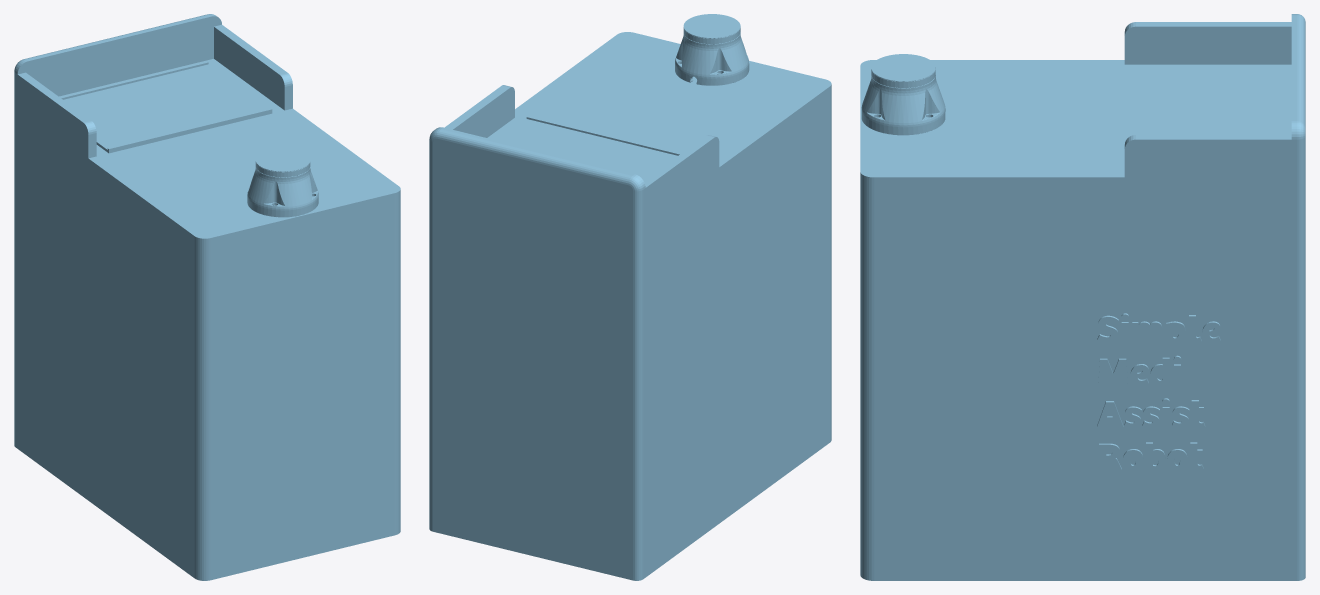
The model's file is base_linkV02.dae.
The picture shows the model from 3 angles, left to right: view 1: azimuth 30°, elevation 25°; view 2: azimuth 150°, elevation 25°; view 3: azimuth 270°, elevation 25°; orthographic projection. The views are drawn at different scales.
Visible parts, largest first — view 1: base_link; view 2: base_link; view 3: base_link.
Boxes of the visible parts, x1,y1,x2,y2 form: base_link: (14, 14, 400, 580); base_link: (429, 14, 831, 580); base_link: (860, 14, 1305, 580).
Size of the model in its own units: 0.505 by 0.8 by 0.9.
